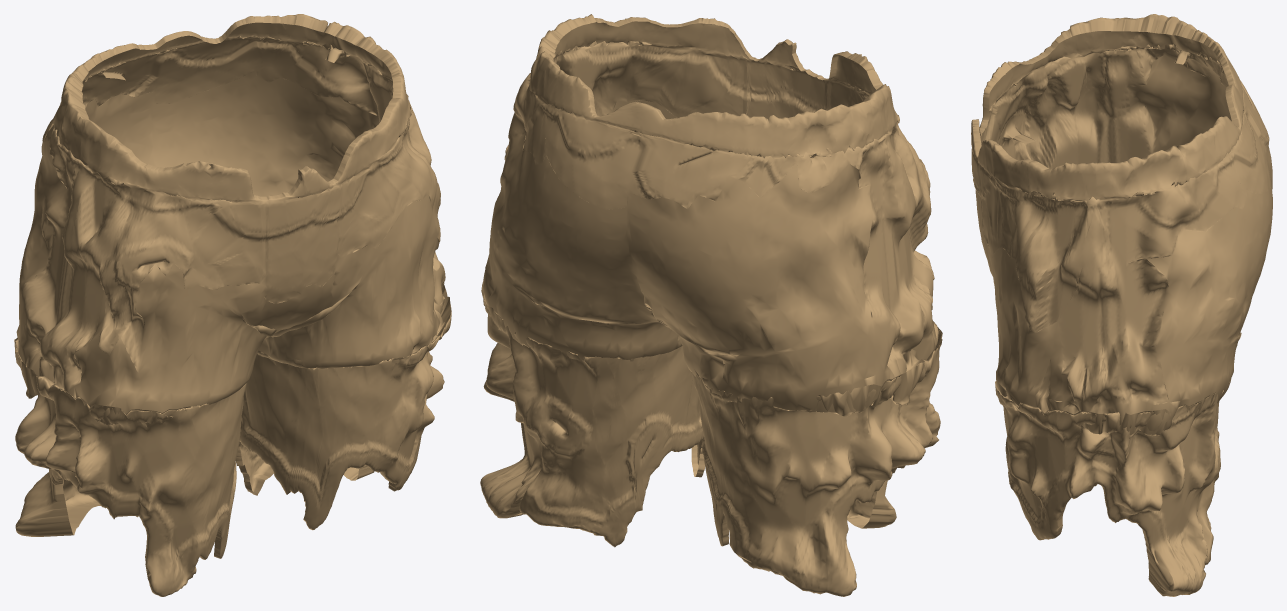
The model's file is bottom_shorts.glb.
3 renders of one model, left to right at view 1: azimuth 30°, elevation 25°; view 2: azimuth 150°, elevation 25°; view 3: azimuth 270°, elevation 25°, orthographic. The views are drawn at different scales.
Parts seen in each view (by area): view 1: bottom_shorts; view 2: bottom_shorts; view 3: bottom_shorts.
Boxes of the visible parts, x1,y1,x2,y2 form: bottom_shorts: (14, 14, 451, 596); bottom_shorts: (480, 14, 942, 596); bottom_shorts: (971, 14, 1272, 596).
Bounding box in the file's own units: 0.3982 × 0.4301 × 0.2655.
Materials: 1 (1 with a texture image).
